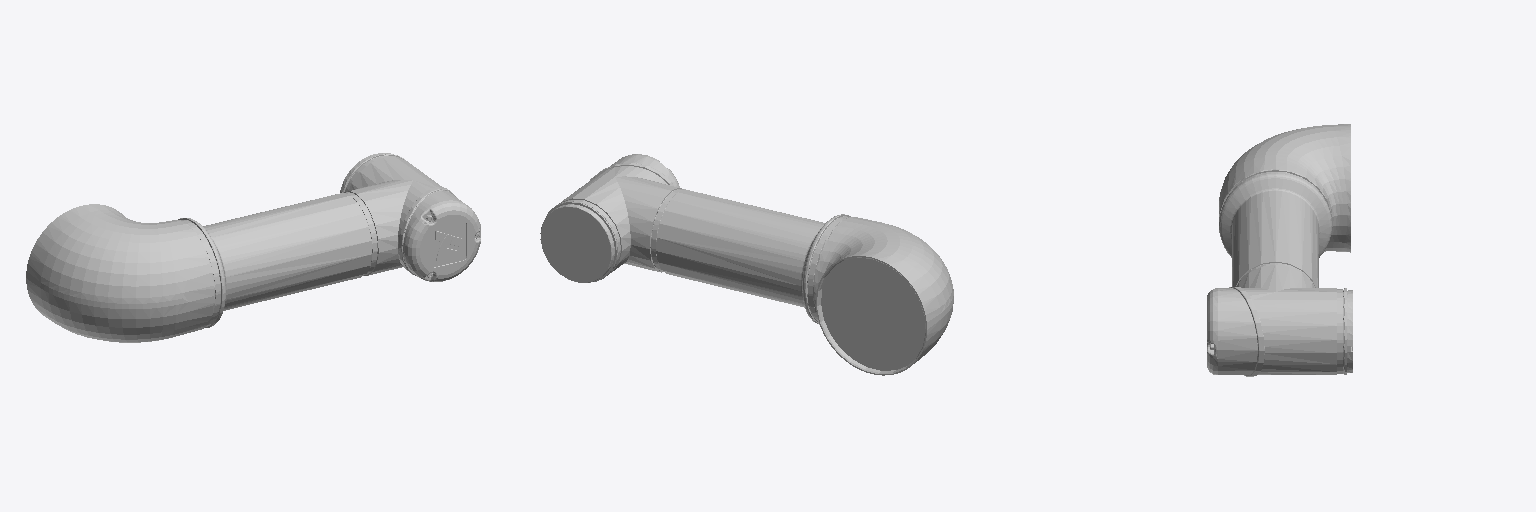
Rendered from ARM4.obj.
3 renders of one model, left to right at view 1: azimuth 30°, elevation 25°; view 2: azimuth 150°, elevation 25°; view 3: azimuth 270°, elevation 25°, orthographic.
Visible parts, largest first — view 1: GBT-C7A-J3.001; view 2: GBT-C7A-J3.001; view 3: GBT-C7A-J3.001.
Boxes of the visible parts, <box> form: GBT-C7A-J3.001: <box>26,153,480,342</box>; GBT-C7A-J3.001: <box>540,154,953,375</box>; GBT-C7A-J3.001: <box>1207,124,1352,376</box>.
Bounding box in the file's own units: 412 × 118 × 134.